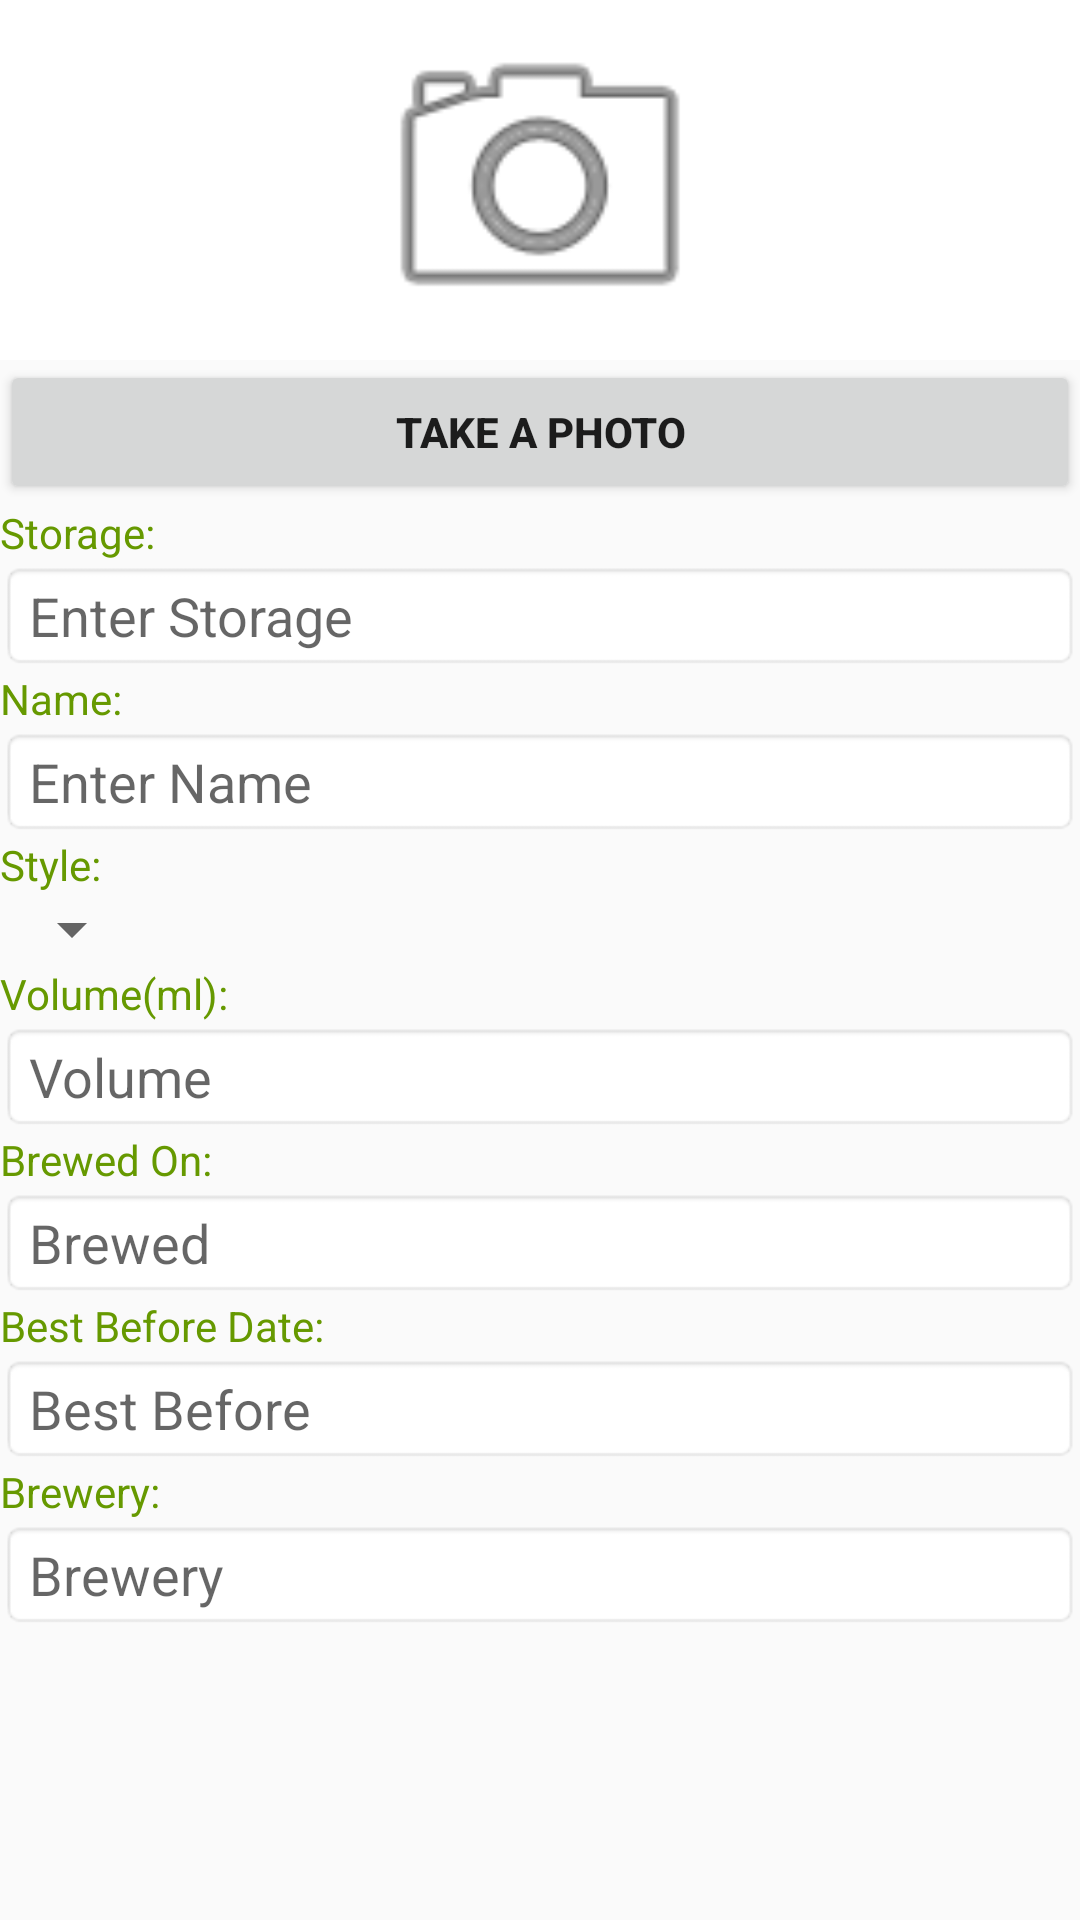

Where icons sit on this 1080×1920 app screen, as (x1, y1, x2, y2):
camera: (401, 63, 679, 285)
